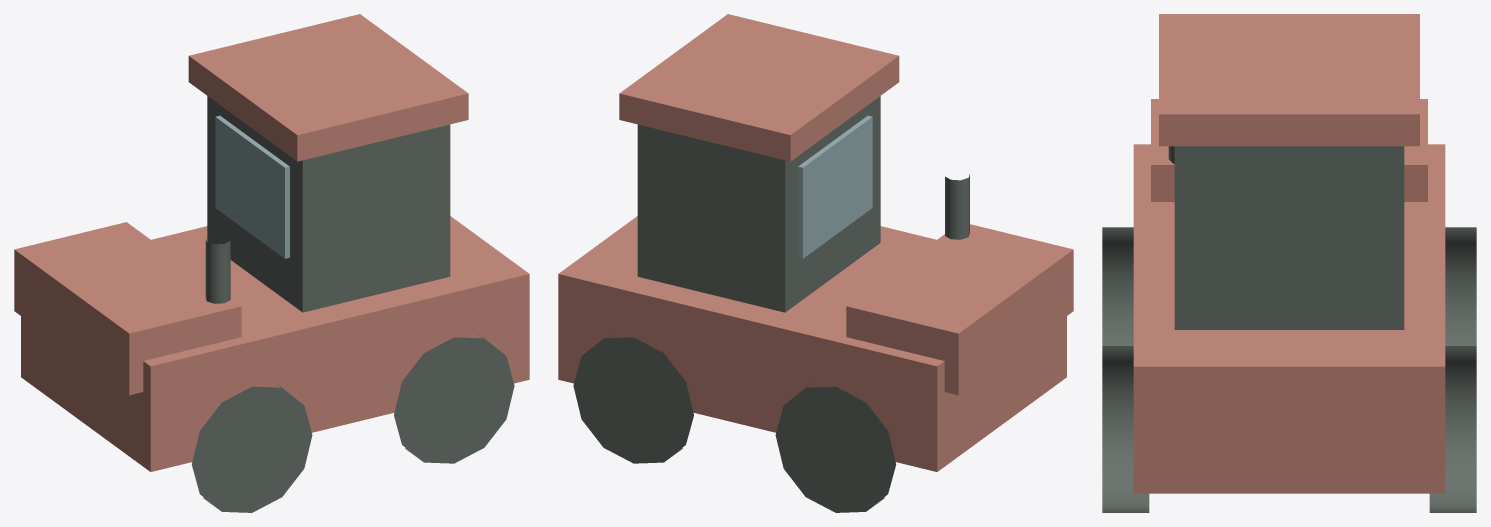
Rendered from tractor-chlum.glb.
3 views of the same model, side by side, from view 1: azimuth 30°, elevation 25°; view 2: azimuth 150°, elevation 25°; view 3: azimuth 270°, elevation 25° (orthographic). The views are drawn at different scales.
Parts seen in each view (by area): view 1: tractor body, cab frame, cab roof, front hood, tractor wheel (×2), front windscreen, exhaust; view 2: tractor body, cab frame, cab roof, front hood, tractor wheel (×2), front windscreen, exhaust; view 3: tractor body, cab frame, cab roof, tractor wheel (×4), front hood.
Boxes of the visible parts, bbox=[...] form: tractor body: bbox=[21, 216, 529, 471]; cab frame: bbox=[207, 96, 450, 312]; cab roof: bbox=[188, 14, 468, 161]; front hood: bbox=[14, 222, 241, 395]; tractor wheel (×2): bbox=[191, 330, 514, 512]; front windscreen: bbox=[215, 115, 289, 258]; exhaust: bbox=[205, 239, 230, 303]; tractor body: bbox=[558, 216, 1066, 471]; cab frame: bbox=[637, 96, 880, 312]; cab roof: bbox=[619, 14, 899, 161]; front hood: bbox=[846, 224, 1073, 395]; tractor wheel (×2): bbox=[573, 330, 896, 512]; front windscreen: bbox=[798, 115, 872, 258]; exhaust: bbox=[945, 174, 969, 239]; tractor body: bbox=[1133, 144, 1445, 493]; cab frame: bbox=[1174, 146, 1404, 329]; cab roof: bbox=[1159, 14, 1419, 146]; tractor wheel (×4): bbox=[1102, 227, 1476, 512]; front hood: bbox=[1151, 99, 1427, 201].
Bounding box in the file's own units: 2.8 × 2.34 × 1.92.
